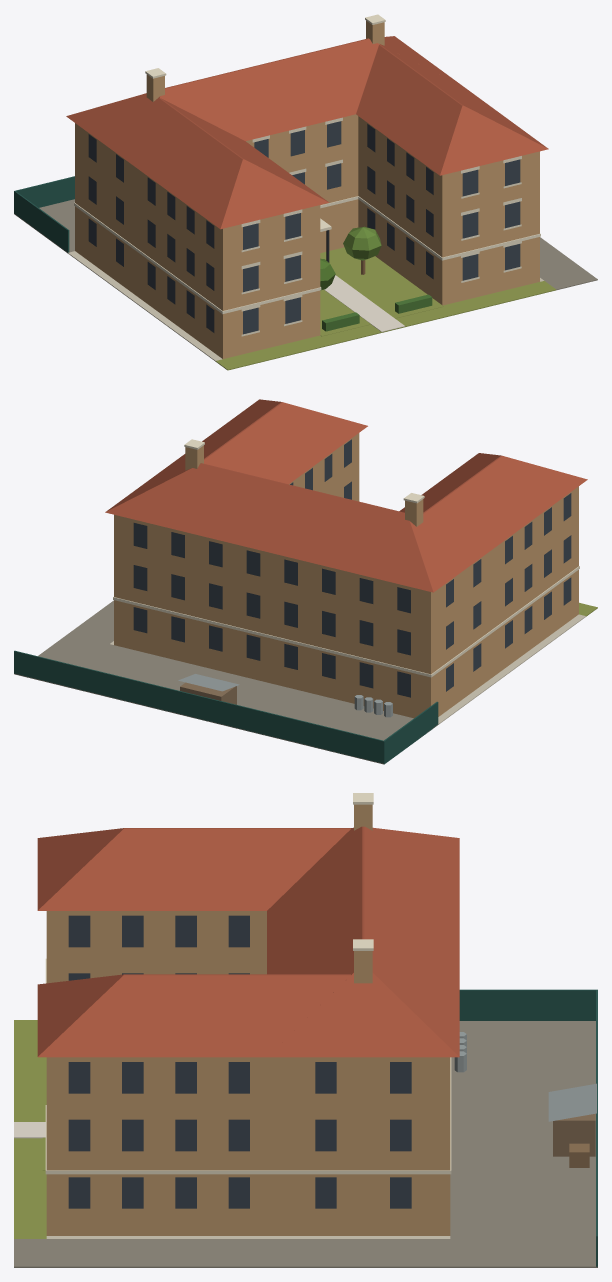
Rendered from apartments_b.glb.
The picture shows the model from 3 angles, top to bottom: view 1: azimuth 30°, elevation 25°; view 2: azimuth 150°, elevation 25°; view 3: azimuth 270°, elevation 25°; orthographic projection. The views are drawn at different scales.
Parts seen in each view (by area): view 1: apartments_b; view 2: apartments_b; view 3: apartments_b.
Part boxes in pixels (x1,y1,x2,y2): apartments_b: (14, 14, 597, 370); apartments_b: (14, 399, 597, 764); apartments_b: (14, 793, 597, 1267).
Size of the model in its own units: 30 by 14.78 by 30.
